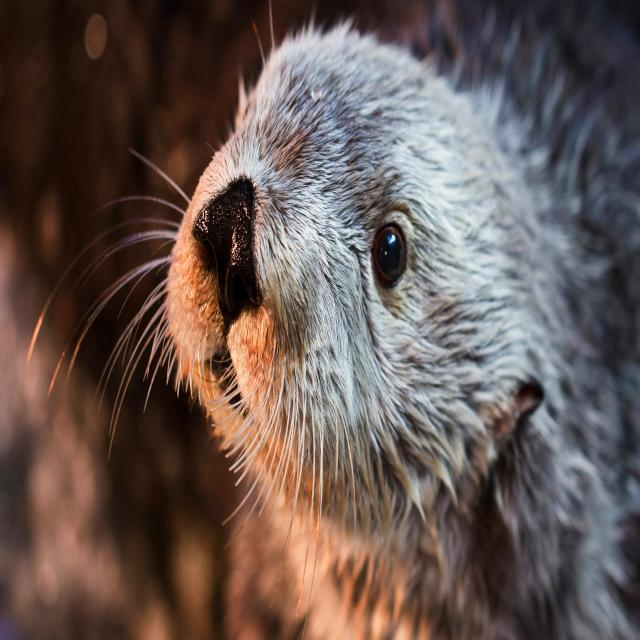otter: (155, 2, 640, 638)
